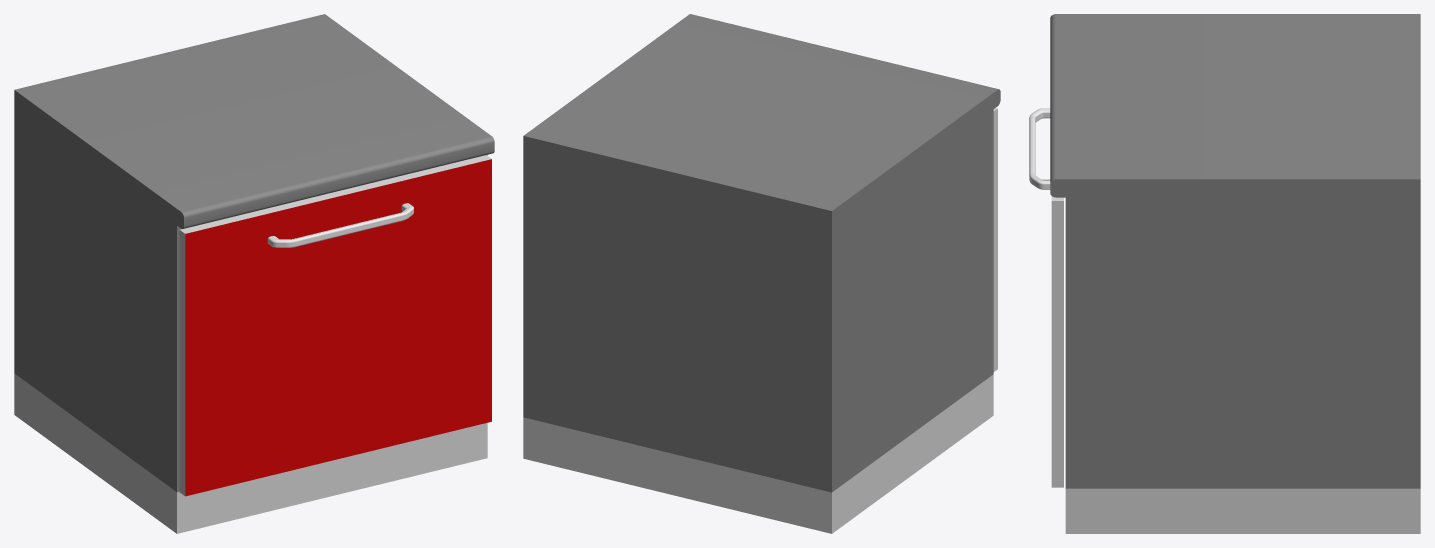
The model's file is sh-lp-singolo.glb.
The picture shows the model from 3 angles, left to right: view 1: azimuth 30°, elevation 25°; view 2: azimuth 150°, elevation 25°; view 3: azimuth 270°, elevation 25°; orthographic projection. The views are drawn at different scales.
Parts seen in each view (by area): view 1: Box052_4, Line03_2, Box03_6, Box05_3, Loft01_1; view 2: Box03_6, Line03_2, Box05_3; view 3: Box03_6, Line03_2, Box05_3, Loft01_1.
Boxes of the visible parts, x1,y1,x2,y2 form: Box052_4: (185,159,491,496); Line03_2: (14,14,494,228); Box03_6: (14,107,487,492); Box05_3: (14,155,491,533); Loft01_1: (267,203,413,247); Box03_6: (523,109,993,492); Line03_2: (523,14,1000,227); Box05_3: (523,108,997,533); Box03_6: (1065,197,1420,488); Line03_2: (1050,14,1420,197); Box05_3: (1051,196,1420,533); Loft01_1: (1029,108,1050,189).
Size of the model in its own units: 1 by 1 by 1.
